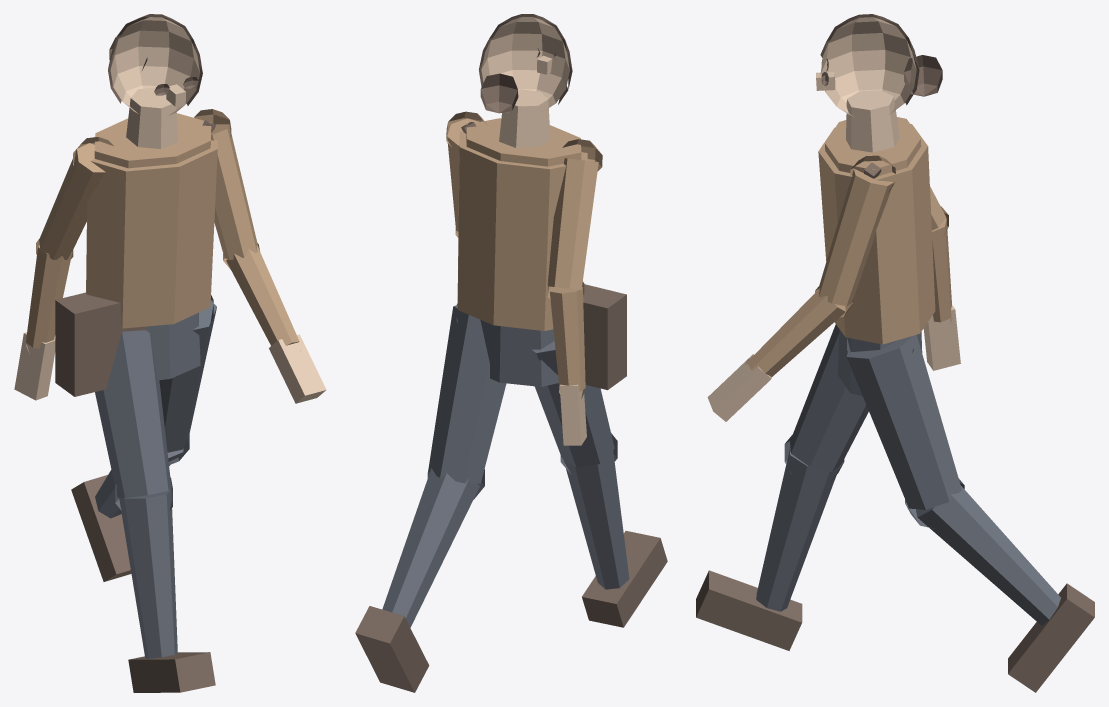
The model's file is low-poly-character-figures-civilian-coat-walking-52e652ed.glb.
The picture shows the model from 3 angles, left to right: view 1: azimuth 30°, elevation 25°; view 2: azimuth 150°, elevation 25°; view 3: azimuth 270°, elevation 25°; orthographic projection. The views are drawn at different scales.
Visible parts, largest first — view 1: civilian-coat-walking; view 2: civilian-coat-walking; view 3: civilian-coat-walking.
Boxes of the visible parts, x1,y1,x2,y2 form: civilian-coat-walking: (14,14,326,692); civilian-coat-walking: (355,14,667,692); civilian-coat-walking: (696,14,1094,692).
Bounding box in the file's own units: 0.5278 × 1.65 × 0.9218.
